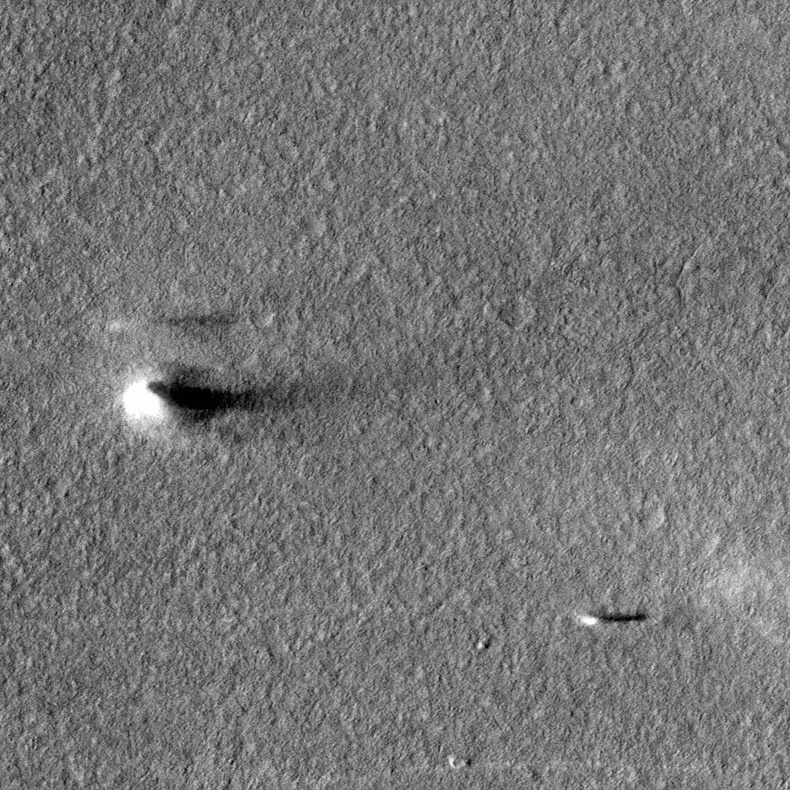dust_devil: (115, 375, 306, 432), (101, 313, 231, 336), (573, 610, 648, 629)
